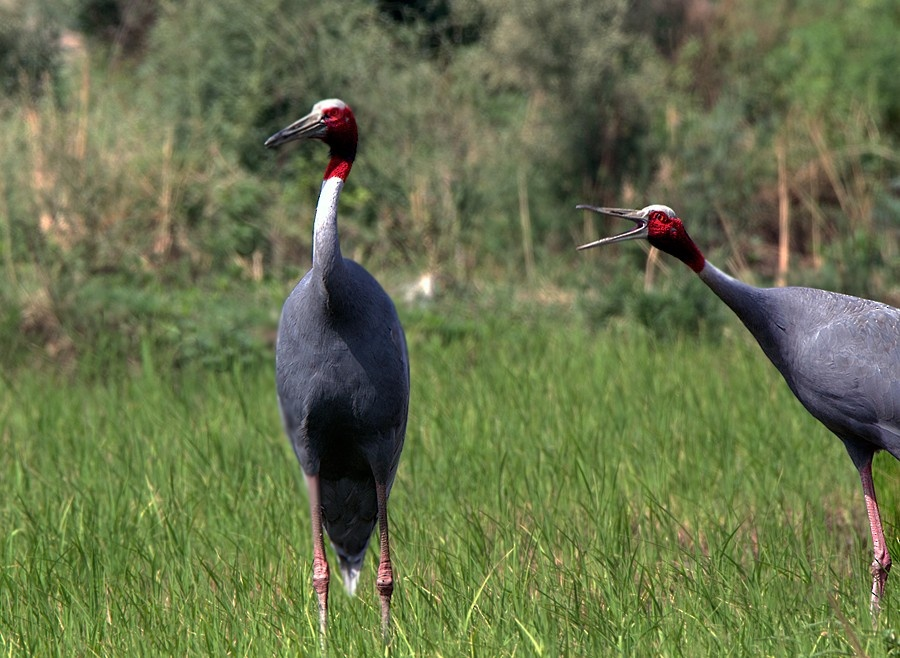crane: (560, 186, 900, 608), (262, 90, 418, 610)
